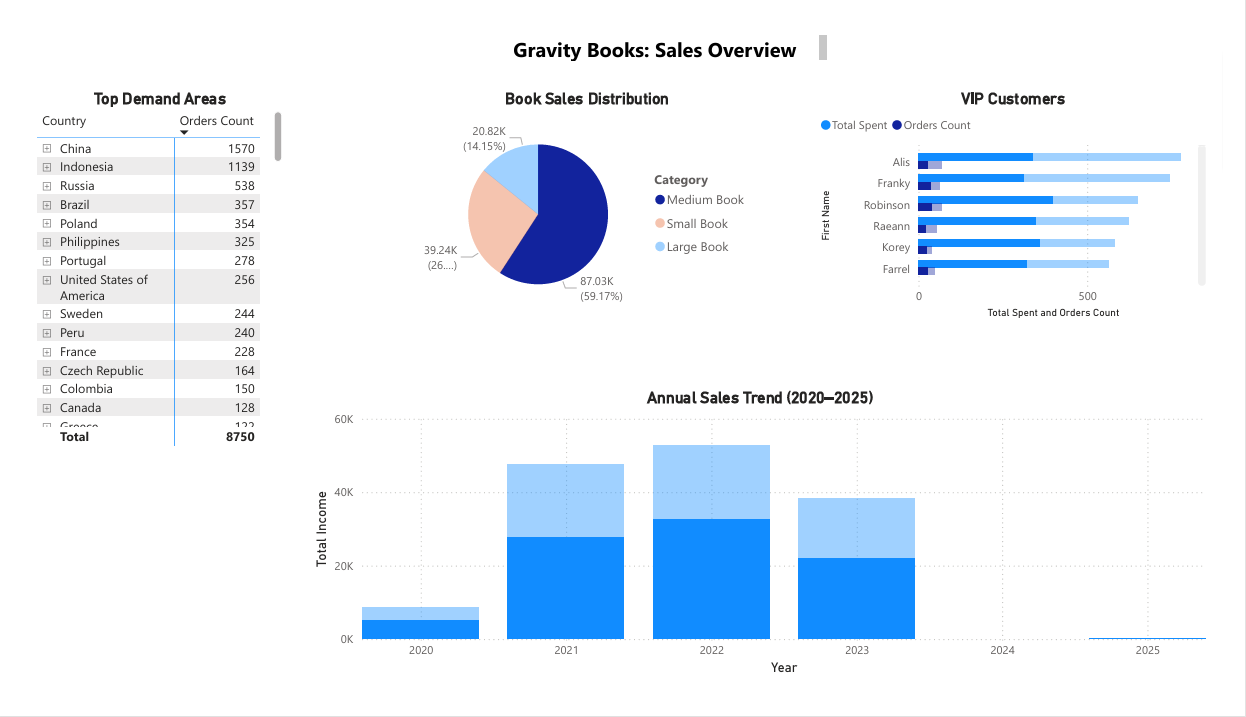

Layout of this report page (visuals, bound fields, positions):
{"tool":"powerbi","page":{"name":"Page 1","canvas":[1280,720],"ordinal":0},"visuals":[{"type":"pivotTable","title":"Top Demand Areas","fields":{"Values":["Fact Sales.Fact Sales Count"],"Rows":["Dim Location.Country","Dim Location.City","Dim Location.Hierarchy.Street"]},"box":[11,74.6,271.5,386.4],"z":0},{"type":"pieChart","title":"Book Sales Distribution","fields":{"Category":["Dim Book.Category"],"Y":["Fact Sales.Total Price"]},"box":[420.7,74.6,363.2,249.5],"z":2},{"type":"clusteredBarChart","title":"VIP Customers","fields":{"Category":["Dim Customer.First Name"],"Y":["Fact Sales.Total Price","Fact Sales.Fact Sales Count"]},"box":[846.2,74.6,420.7,249.5],"z":4},{"type":"textbox","box":[494,13.5,369.3,36.7],"z":5},{"type":"columnChart","title":"Annual Sales Trend (2020–2025)","fields":{"Category":["Order Date.Year"],"Y":["Fact Sales.Total Price"]},"box":[305.7,393.8,961.1,311.8],"z":6}]}

Visuals, with their boxes in screenshot pixels (x1, y1, x2, y2), scaled from the page's 1280x720 canvas onto the 1246x717 screenshot:
"Top Demand Areas" pivotTable: l=11, t=74, r=275, b=459
"Book Sales Distribution" pieChart: l=410, t=74, r=763, b=323
"VIP Customers" clusteredBarChart: l=824, t=74, r=1233, b=323
textbox: l=481, t=13, r=840, b=50
"Annual Sales Trend (2020–2025)" columnChart: l=298, t=392, r=1233, b=703
